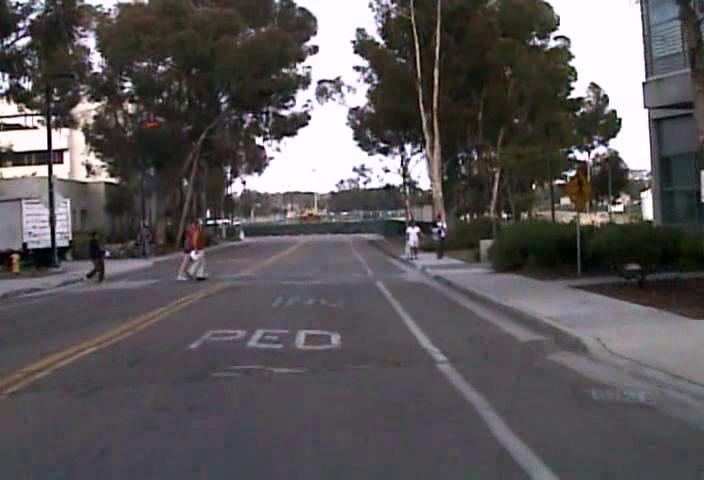pedestrianCrossing: (564, 167, 594, 206)
